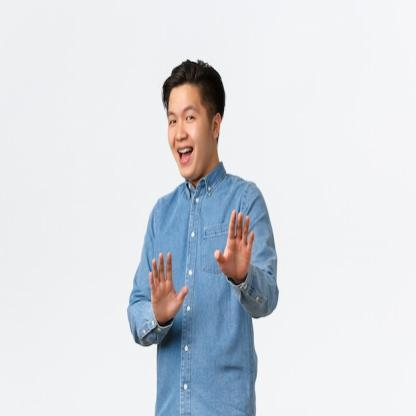stop: (214, 207, 257, 282), (147, 250, 189, 326)
